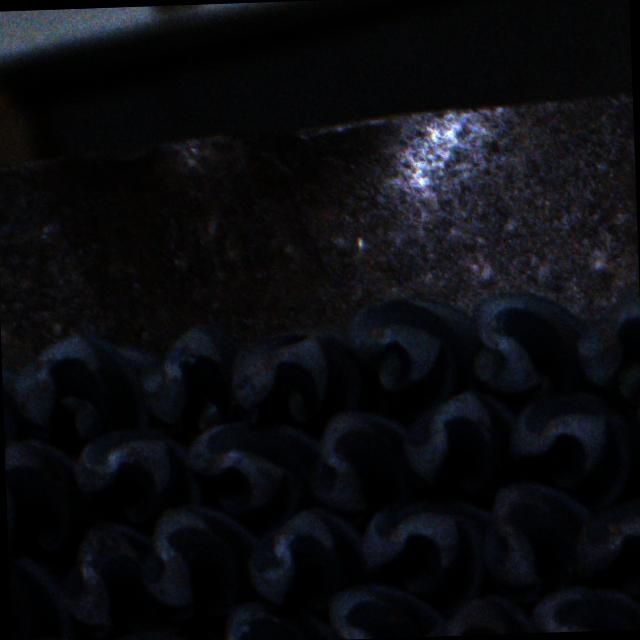tool_b: (346, 296, 484, 418), (506, 386, 640, 508), (358, 498, 494, 612), (8, 334, 151, 442), (137, 504, 262, 624), (180, 418, 320, 520), (138, 320, 262, 432), (482, 482, 596, 603), (70, 427, 206, 527), (468, 291, 590, 401), (247, 506, 373, 612), (400, 387, 524, 494), (226, 329, 362, 423), (56, 520, 160, 637), (304, 407, 412, 516), (4, 437, 82, 554), (323, 582, 446, 640), (576, 306, 640, 400), (524, 584, 640, 633), (8, 550, 71, 640), (574, 500, 640, 584), (218, 599, 340, 640), (427, 595, 537, 636)
